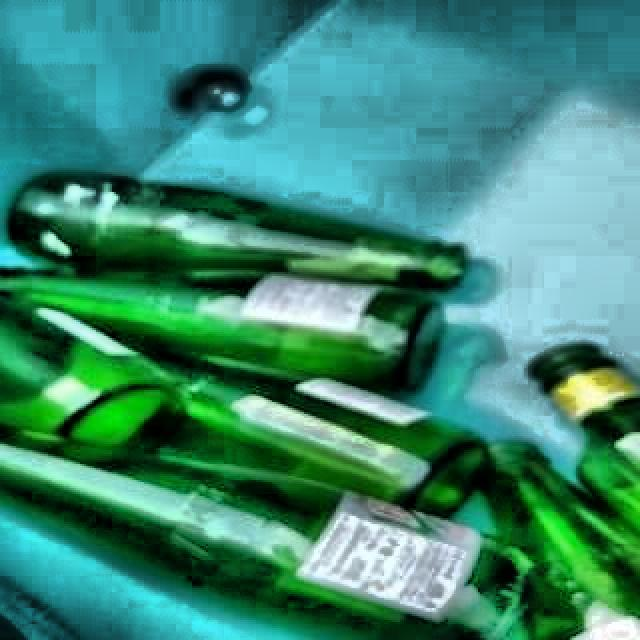glass: (0, 172, 640, 640)
